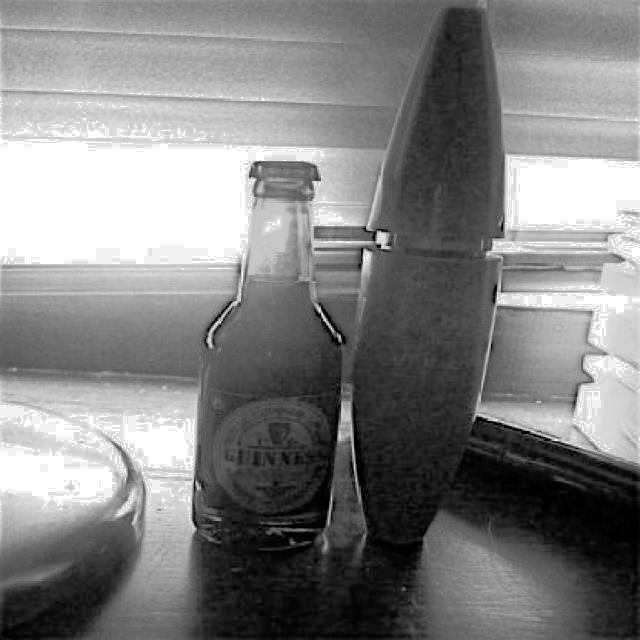Person: (184, 156, 357, 559)
